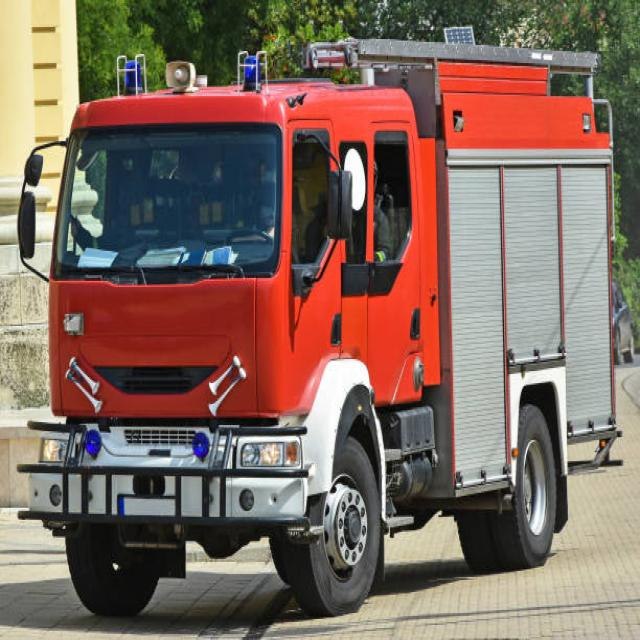emergency: (9, 40, 621, 615)
